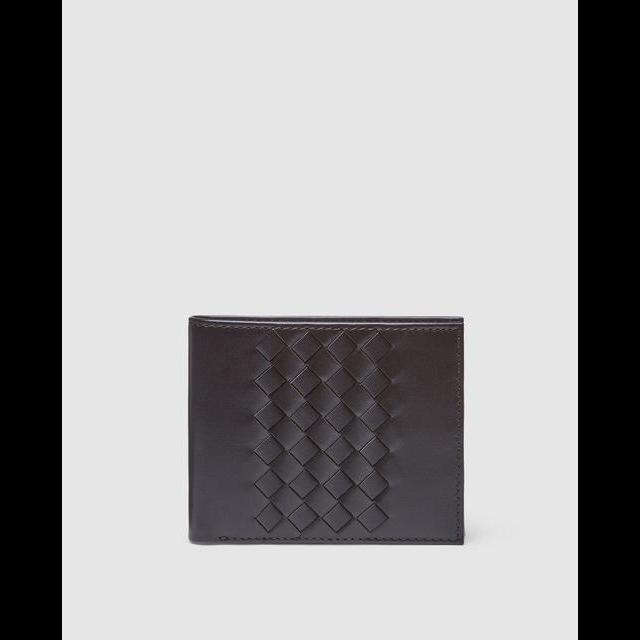wallet: (186, 312, 464, 546)
